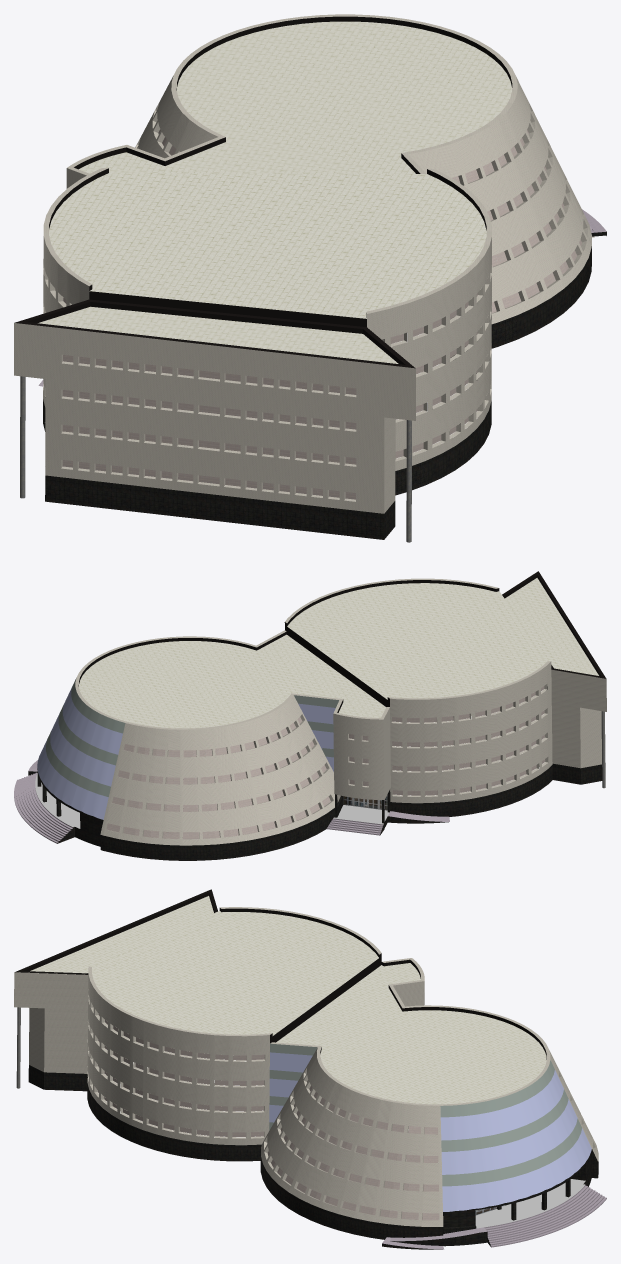
The picture shows the model from 3 angles, top to bottom: view 1: azimuth 30°, elevation 25°; view 2: azimuth 150°, elevation 25°; view 3: azimuth 270°, elevation 25°; orthographic projection. The views are drawn at different scales.
Parts seen in each view (by area): view 1: group_0 (×11); view 2: group_0 (×21); view 3: group_0 (×19).
Part boxes in pixels (left/top/right/bottom): group_0 (×11): left=14, top=14, right=591, bottom=542; group_0 (×21): left=14, top=571, right=606, bottom=860; group_0 (×19): left=14, top=889, right=606, bottom=1247.
Size of the model in its own units: 3100 by 3262 by 798.
